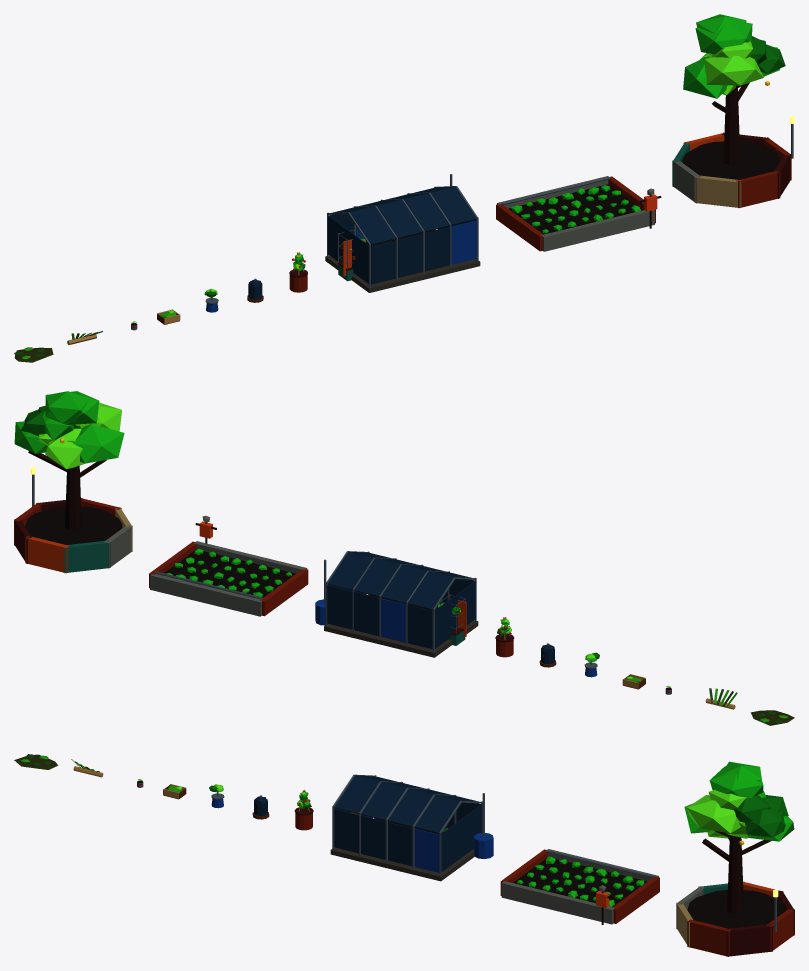
The model's file is tb_flora_kit.mobile.glb.
3 views of the same model, one above another, from view 1: azimuth 30°, elevation 25°; view 2: azimuth 150°, elevation 25°; view 3: azimuth 330°, elevation 25° (orthographic).
Parts seen in each view (by area): view 1: last_tree, greenhouse, garden_plot; view 2: last_tree, greenhouse, garden_plot; view 3: last_tree, greenhouse, garden_plot, flora_fruit, flora_algae.
Boxes of the visible parts, bbox=[...] form: last_tree: bbox=[672, 14, 794, 207]; greenhouse: bbox=[325, 174, 480, 292]; garden_plot: bbox=[496, 176, 661, 251]; last_tree: bbox=[14, 391, 132, 573]; greenhouse: bbox=[315, 551, 478, 657]; garden_plot: bbox=[149, 515, 308, 616]; last_tree: bbox=[676, 761, 794, 956]; greenhouse: bbox=[330, 774, 493, 881]; garden_plot: bbox=[500, 849, 659, 924]; flora_fruit: bbox=[294, 790, 313, 830]; flora_algae: bbox=[14, 754, 57, 769].
Bounding box in the file's own units: 44.53 × 8.99 × 5.59.
